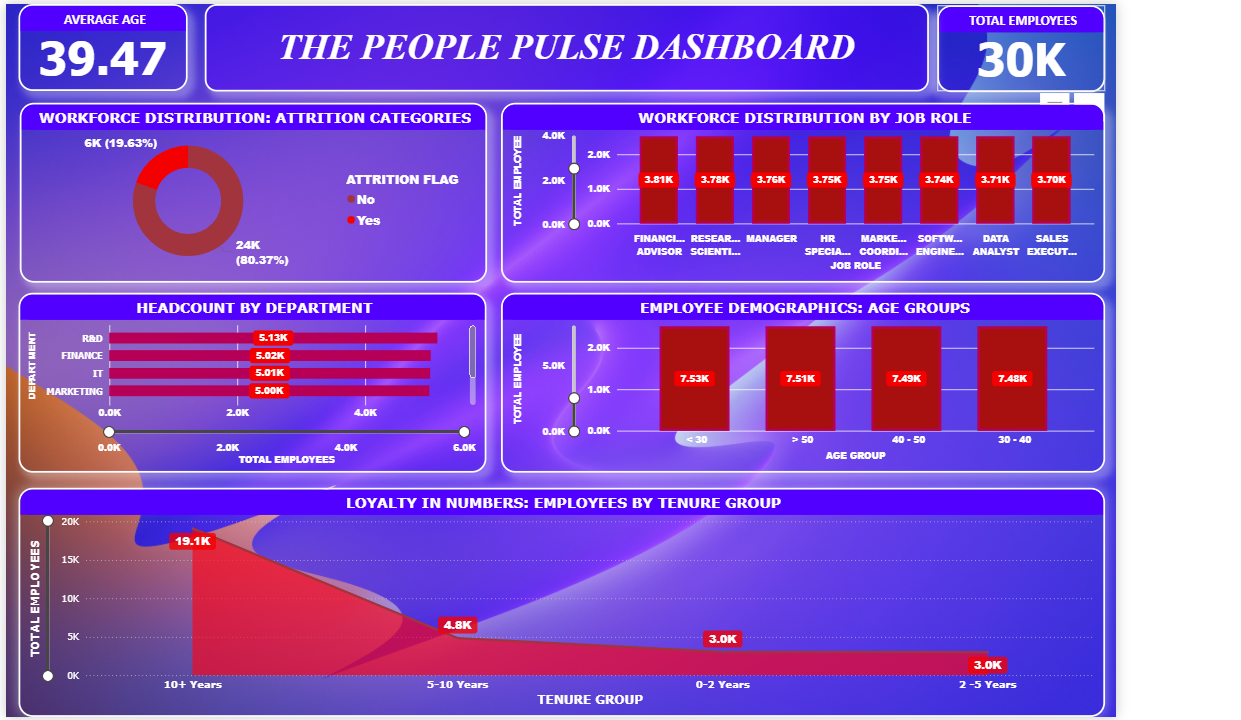

The dashboard page shown, as its layout file describes it:
{"tool":"powerbi","page":{"name":"WORKFORCE OVERVIEW & DEMOGRAPHICS","canvas":[1480,950],"ordinal":0},"visuals":[{"type":"card","title":"AVERAGE AGE","fields":{"Values":["employee_dataset_30000.Average Age"]},"box":[17.1,0,225.7,115.7],"z":0},{"type":"card","title":"TOTAL EMPLOYEES","fields":{"Values":["employee_dataset_30000.Total Employees"]},"box":[1241.4,1.4,224.3,115.7],"z":1000},{"type":"donutChart","title":"WORKFORCE DISTRIBUTION: ATTRITION CATEGORIES","fields":{"Category":["employee_dataset_30000.Attrition"],"Y":["employee_dataset_30000.Total Employees"],"Series":["employee_dataset_30000.Attrition_Flag"]},"box":[18.6,131.4,622.9,240],"z":2000},{"type":"barChart","title":"HEADCOUNT BY DEPARTMENT","fields":{"Category":["employee_dataset_30000.Department"],"Y":["employee_dataset_30000.Total Employees"]},"box":[17.1,384.3,624.3,240],"z":3000},{"type":"clusteredColumnChart","title":"WORKFORCE DISTRIBUTION BY JOB ROLE","fields":{"Category":["employee_dataset_30000.JobRole"],"Y":["employee_dataset_30000.Total Employees"]},"box":[660,131.4,805.7,240],"z":4000},{"type":"clusteredColumnChart","title":"EMPLOYEE DEMOGRAPHICS: AGE GROUPS","fields":{"Category":["employee_dataset_30000.Age Group"],"Y":["employee_dataset_30000.Total Employees"]},"box":[660,384.3,805.7,240],"z":5000},{"type":"lineChart","title":"LOYALTY IN NUMBERS: EMPLOYEES BY TENURE GROUP","fields":{"Category":["employee_dataset_30000.Tenure Group"],"Y":["employee_dataset_30000.Total Employees"]},"box":[17.1,644.3,1448.6,305.7],"z":6000},{"type":"textbox","box":[264.3,0,965.7,117.1],"z":7000}]}

Visuals, with their boxes in screenshot pixels (x1, y1, x2, y2):
"AVERAGE AGE" card: bbox=(19, 3, 188, 90)
"TOTAL EMPLOYEES" card: bbox=(935, 4, 1103, 91)
"WORKFORCE DISTRIBUTION: ATTRITION CATEGORIES" donutChart: bbox=(20, 102, 486, 281)
"HEADCOUNT BY DEPARTMENT" barChart: bbox=(19, 291, 486, 470)
"WORKFORCE DISTRIBUTION BY JOB ROLE" clusteredColumnChart: bbox=(500, 102, 1103, 281)
"EMPLOYEE DEMOGRAPHICS: AGE GROUPS" clusteredColumnChart: bbox=(500, 291, 1103, 470)
"LOYALTY IN NUMBERS: EMPLOYEES BY TENURE GROUP" lineChart: bbox=(19, 485, 1103, 714)
textbox: bbox=(204, 3, 927, 91)
